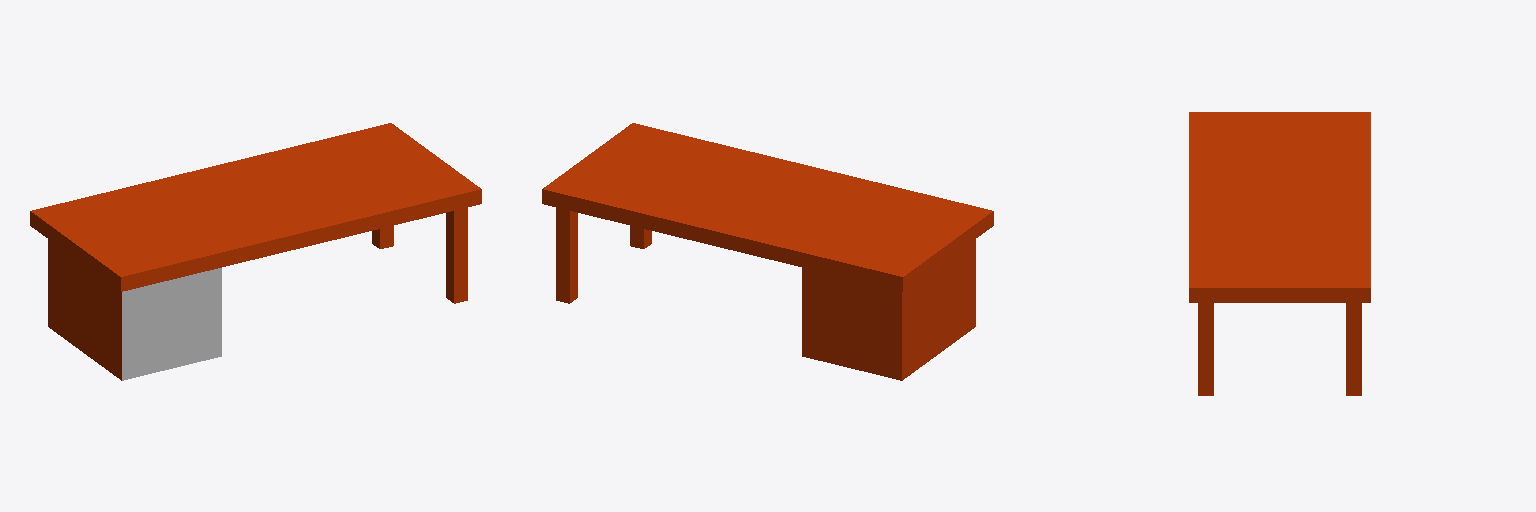
The model's file is table_2.obj.
3 views of the same model, side by side, from view 1: azimuth 30°, elevation 25°; view 2: azimuth 150°, elevation 25°; view 3: azimuth 270°, elevation 25° (orthographic).
Parts seen in each view (by area): view 1: table_2; view 2: table_2; view 3: table_2.
Boxes of the visible parts, x1=… form: table_2: x1=30, y1=123, x2=481, y2=380; table_2: x1=542, y1=123, x2=993, y2=380; table_2: x1=1189, y1=112, x2=1370, y2=395.
Bounding box in the file's own units: 5.06 × 1.5 × 2.2.